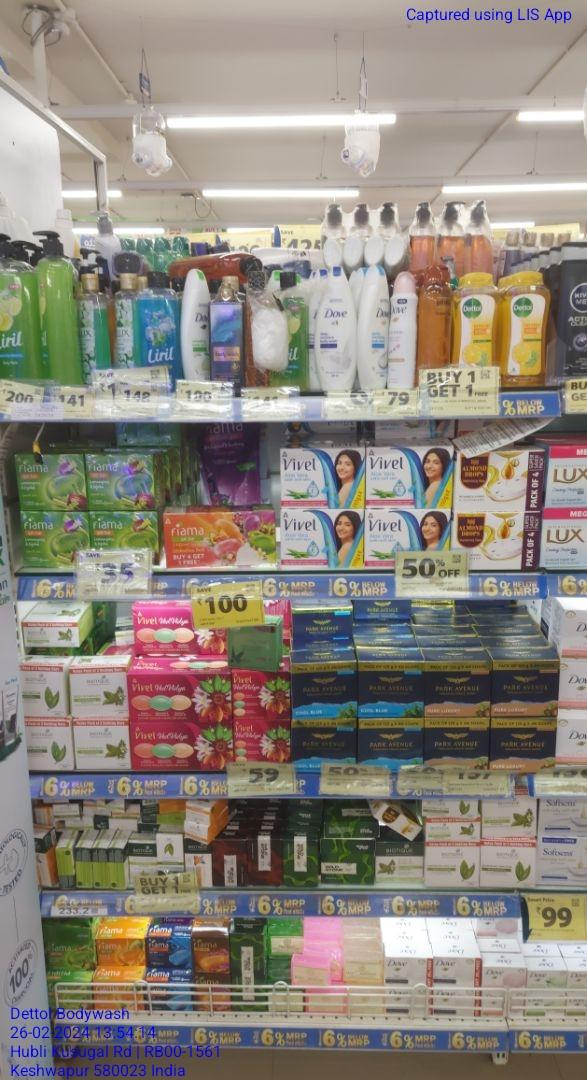Dettol_Bodywash_Refresh: (497, 271, 551, 390), (451, 272, 497, 366)
Dove_Deep_Moisture_Body_Wash_250ML: (313, 266, 356, 393)
Dove_Gentle_Exfoliating_Body_Wash_250ML: (358, 263, 388, 395)
Dove_Refreshing_Body_Wash_250ML: (180, 268, 209, 380)
